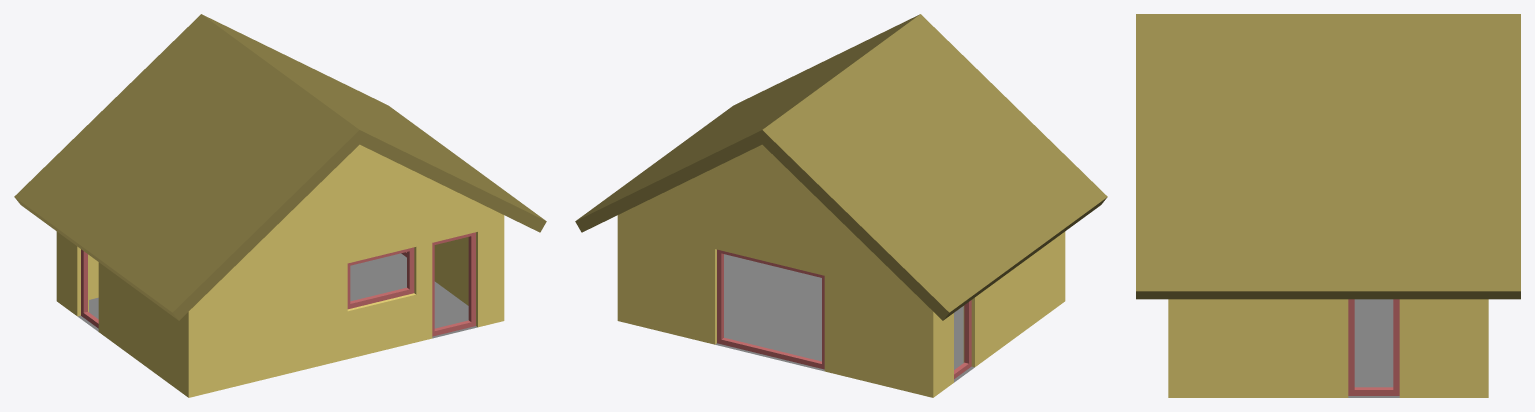
File: result.glb
3 renders of one model, left to right at view 1: azimuth 30°, elevation 25°; view 2: azimuth 150°, elevation 25°; view 3: azimuth 270°, elevation 25°, orthographic. The views are drawn at different scales.
Parts seen in each view (by area): view 1: 52ce810f-5d98-4a55-9aae-d4bc66790278__undefined (×2), baeffa1b-555f-40fe-9923-e20c2f5e1fef__undefined, af45a453-1377-4ecb-9cef-82069ee1cf26__Plane_6, d0b9930b-49a1-4b29-bd94-27e86beed676__Box, 14c6b200-b93d-4767-b7de-dd05acea1d55__Box_3, a6ebd0a2-3341-491d-af57-5e70cc92e34b__Box_12; view 2: 52ce810f-5d98-4a55-9aae-d4bc66790278__undefined (×2), baeffa1b-555f-40fe-9923-e20c2f5e1fef__undefined, af45a453-1377-4ecb-9cef-82069ee1cf26__Plane_6, da4c1305-a9cf-497d-ad8d-d4646348cfa8__Box_9, a6ebd0a2-3341-491d-af57-5e70cc92e34b__Box_12; view 3: 52ce810f-5d98-4a55-9aae-d4bc66790278__undefined, baeffa1b-555f-40fe-9923-e20c2f5e1fef__undefined, af45a453-1377-4ecb-9cef-82069ee1cf26__Plane_6, 7e92efd8-da24-4d97-85ad-81f14a219162__Box_15.
Boxes of the visible parts, box(x1,y1,x2,y2) form: 52ce810f-5d98-4a55-9aae-d4bc66790278__undefined (×2): box(14, 14, 546, 320); baeffa1b-555f-40fe-9923-e20c2f5e1fef__undefined: box(56, 144, 504, 397); af45a453-1377-4ecb-9cef-82069ee1cf26__Plane_6: box(78, 253, 477, 338); d0b9930b-49a1-4b29-bd94-27e86beed676__Box: box(432, 232, 475, 336); 14c6b200-b93d-4767-b7de-dd05acea1d55__Box_3: box(347, 247, 414, 309); a6ebd0a2-3341-491d-af57-5e70cc92e34b__Box_12: box(81, 249, 98, 328); 52ce810f-5d98-4a55-9aae-d4bc66790278__undefined (×2): box(575, 14, 1107, 320); baeffa1b-555f-40fe-9923-e20c2f5e1fef__undefined: box(617, 144, 1065, 397); af45a453-1377-4ecb-9cef-82069ee1cf26__Plane_6: box(715, 254, 974, 382); da4c1305-a9cf-497d-ad8d-d4646348cfa8__Box_9: box(717, 249, 824, 369); a6ebd0a2-3341-491d-af57-5e70cc92e34b__Box_12: box(954, 300, 971, 378); 52ce810f-5d98-4a55-9aae-d4bc66790278__undefined: box(1136, 14, 1520, 299); baeffa1b-555f-40fe-9923-e20c2f5e1fef__undefined: box(1168, 299, 1488, 397); af45a453-1377-4ecb-9cef-82069ee1cf26__Plane_6: box(1348, 299, 1399, 397); 7e92efd8-da24-4d97-85ad-81f14a219162__Box_15: box(1348, 299, 1399, 395).
Size of the model in its own units: 819 by 500 by 600.
